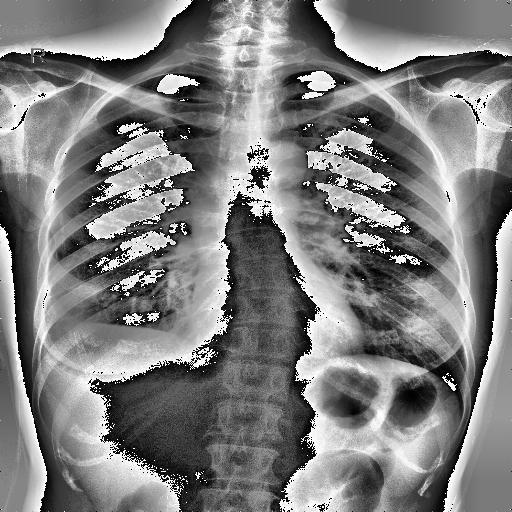0- Aortic enlargement: (241, 140, 307, 188)
10- Pleural effusion: (40, 308, 199, 388), (30, 291, 158, 383), (36, 318, 76, 350)
11- Pleural thickening: (36, 318, 76, 350)
